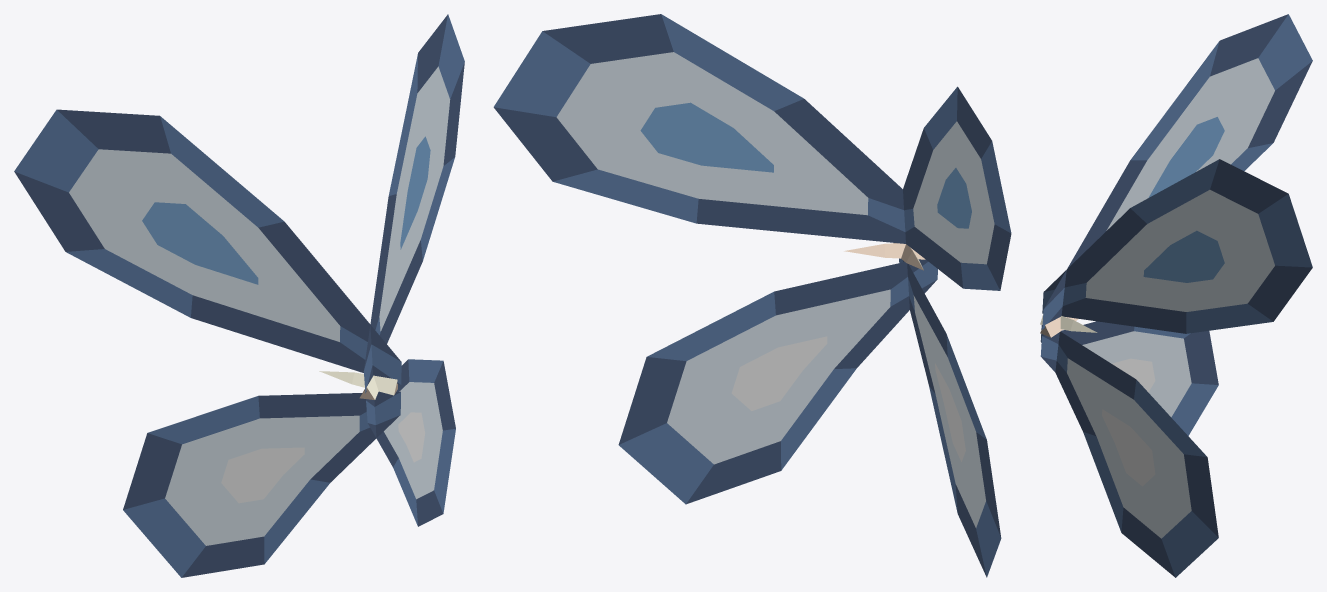
Rendered from wings_px_butterfly.glb.
The picture shows the model from 3 angles, left to right: view 1: azimuth 30°, elevation 25°; view 2: azimuth 150°, elevation 25°; view 3: azimuth 270°, elevation 25°; orthographic projection. The views are drawn at different scales.
Parts seen in each view (by area): view 1: Wing_R, Wing_L; view 2: Wing_L, Wing_R; view 3: Wing_L, Wing_R.
Part boxes in pixels (bbox=[...]): Wing_R: bbox=[14, 109, 401, 577]; Wing_L: bbox=[359, 14, 464, 526]; Wing_L: bbox=[493, 14, 937, 504]; Wing_R: bbox=[893, 86, 1011, 577]; Wing_L: bbox=[1040, 159, 1312, 577]; Wing_R: bbox=[1040, 14, 1312, 435].
Bounding box in the file's own units: 0.2202 × 0.2075 × 0.1227.
Materials: 1 (1 with a texture image).
